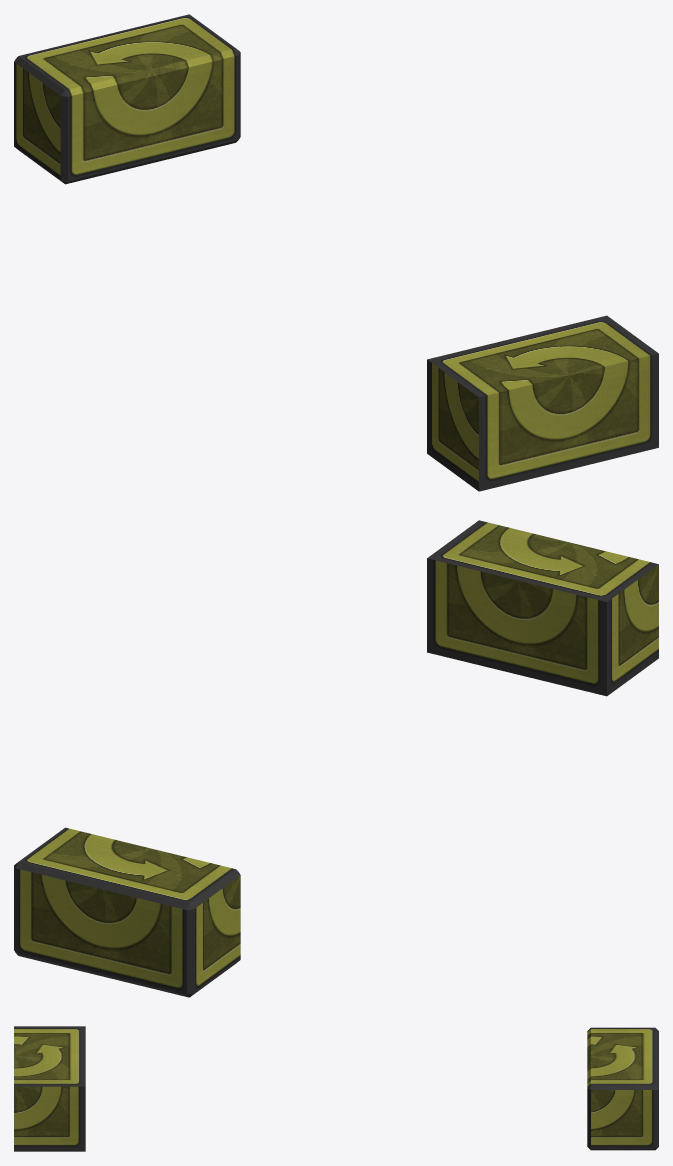
File: insetStep2.fbx
The picture shows the model from 3 angles, top to bottom: view 1: azimuth 30°, elevation 25°; view 2: azimuth 150°, elevation 25°; view 3: azimuth 270°, elevation 25°; orthographic projection. The views are drawn at different scales.
Parts seen in each view (by area): view 1: MESH insetStep2, MESH insetStep2.c; view 2: MESH insetStep2, MESH insetStep2.c; view 3: MESH insetStep2, MESH insetStep2.c.
Boxes of the visible parts, x1,y1,x2,y2 form: MESH insetStep2: (427,315,658,491); MESH insetStep2.c: (14,14,240,184); MESH insetStep2: (427,520,658,696); MESH insetStep2.c: (14,827,240,997); MESH insetStep2: (14,1026,85,1151); MESH insetStep2.c: (587,1027,658,1150).
Size of what is drawn, in the model's own units: 100 by 50.01 by 450.
